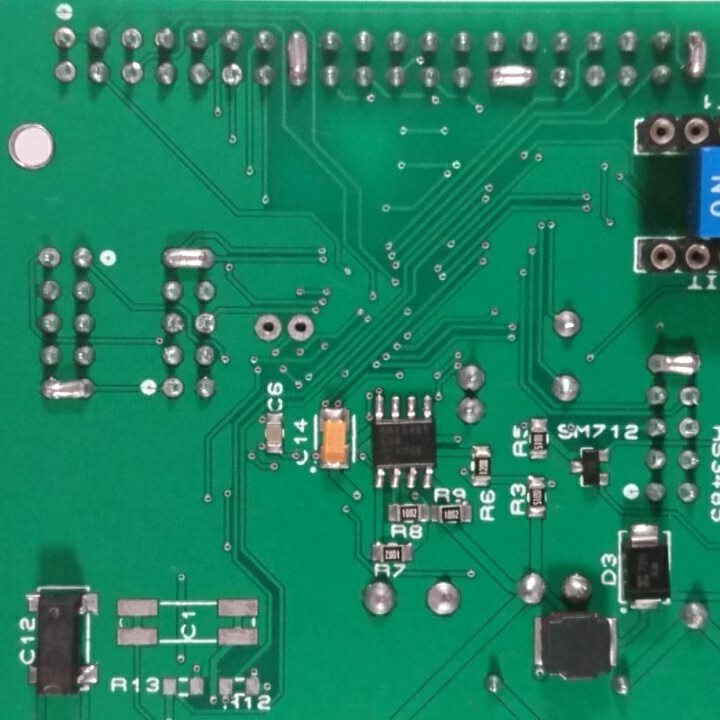F: (250, 311, 284, 345), (285, 313, 316, 344), (676, 412, 704, 444), (116, 24, 143, 52), (35, 243, 61, 270), (157, 374, 182, 402), (218, 62, 244, 88), (51, 26, 77, 51), (191, 311, 216, 336)
P: (282, 26, 313, 95), (640, 349, 704, 381), (156, 243, 220, 273), (36, 373, 98, 403), (484, 63, 537, 93), (684, 26, 710, 86)
